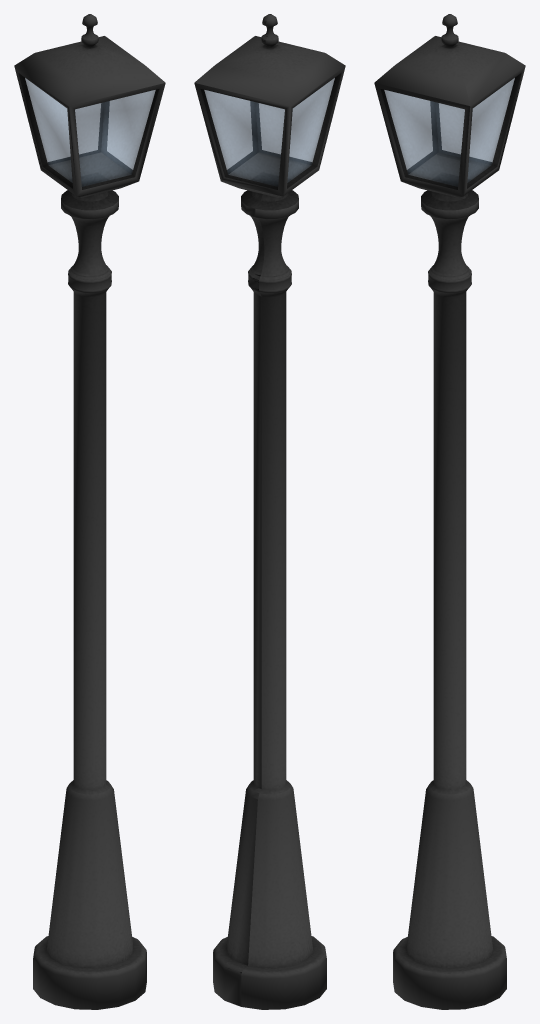
File: lamp.fbx
3 renders of one model, left to right at view 1: azimuth 30°, elevation 25°; view 2: azimuth 150°, elevation 25°; view 3: azimuth 330°, elevation 25°, orthographic.
Parts seen in each view (by area): view 1: cage; view 2: cage; view 3: cage.
Boxes of the visible parts, box(x1,y1,x2,y2) form: cage: box(14, 14, 165, 1009); cage: box(194, 14, 345, 1009); cage: box(374, 14, 525, 1009).
Bounding box in the file's own units: 0.641 × 5.99 × 0.641.
Materials: 3 (3 with a texture image).
